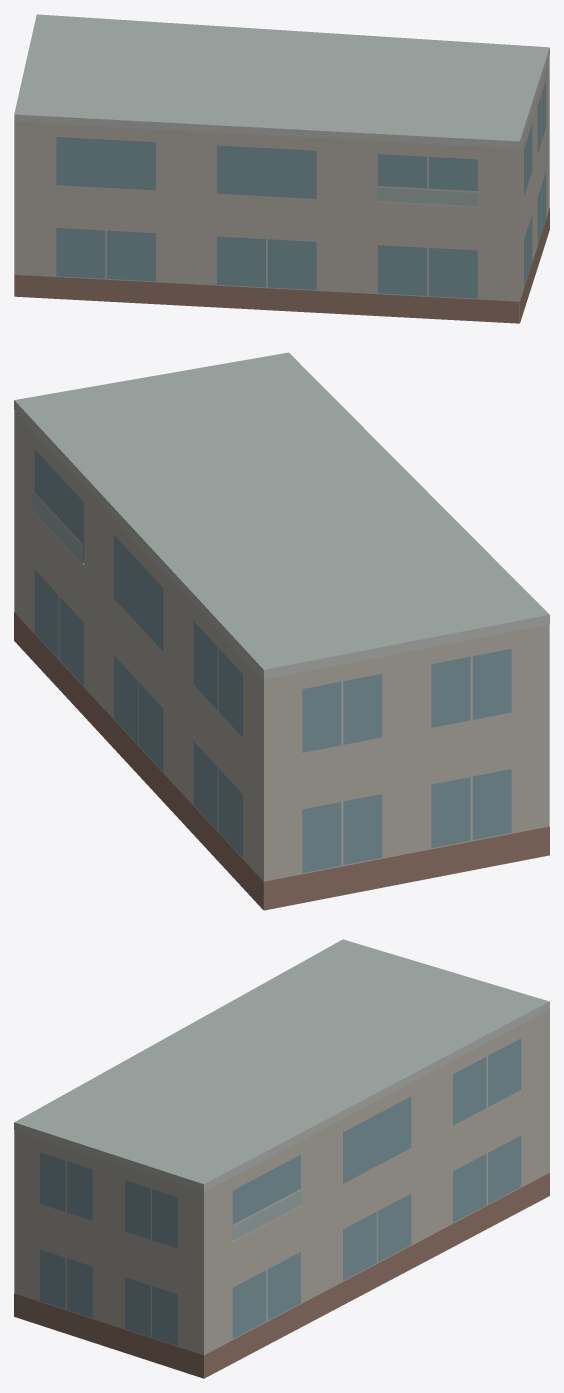
Rendered from survey-upis-32994784.glb.
The picture shows the model from 3 angles, top to bottom: view 1: azimuth 30°, elevation 25°; view 2: azimuth 150°, elevation 25°; view 3: azimuth 270°, elevation 25°; orthographic projection. The views are drawn at different scales.
Parts seen in each view (by area): view 1: survey-upis-32994784.tmp; view 2: survey-upis-32994784.tmp; view 3: survey-upis-32994784.tmp.
Part boxes in pixels (x1,y1,x2,y2): survey-upis-32994784.tmp: (14,14,549,323); survey-upis-32994784.tmp: (14,352,549,910); survey-upis-32994784.tmp: (14,939,549,1378).
Bounding box in the file's own units: 16.5 × 6.1 × 15.25.
